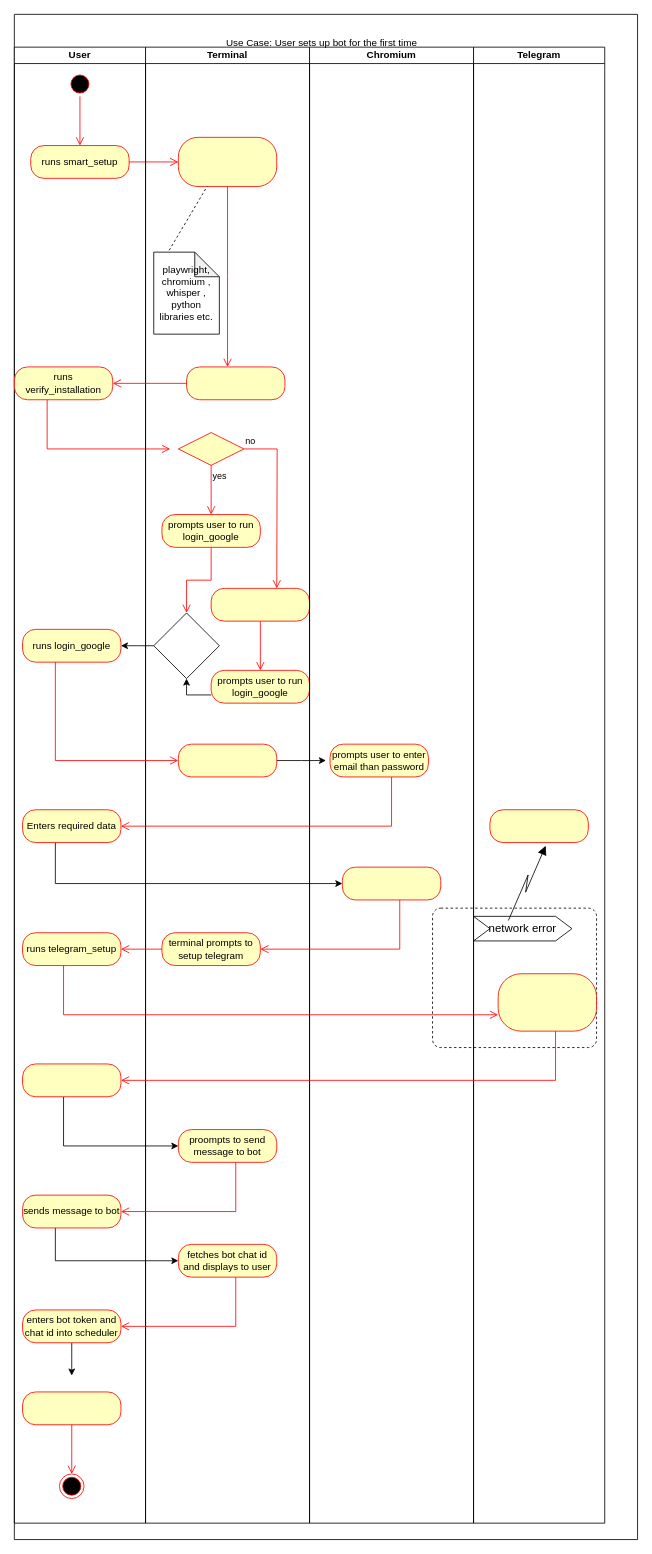
This 652x1554 diagram has some shape labels left out. Here are the shapes that lost their labels. From the top down, the centre of each, then its label:
point 227,162: downloads and installs all required compponents
point 235,383: prompts user to run verify_installation
point 211,448: if verified
point 260,604: repairs and verify
point 227,760: opens chromium
point 538,826: Prompts user to turn on VPN
point 391,883: bot saves profile
point 547,1002: provides instructions to create bot and get token
point 71,1080: User enters bot token in terminal
point 71,1408: enters Groq API token and timetable in scheduler
